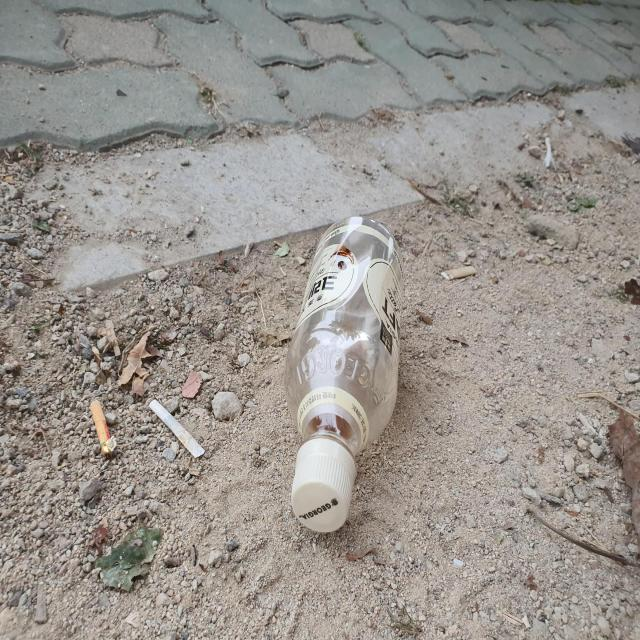plastic: (285, 216, 403, 533)
